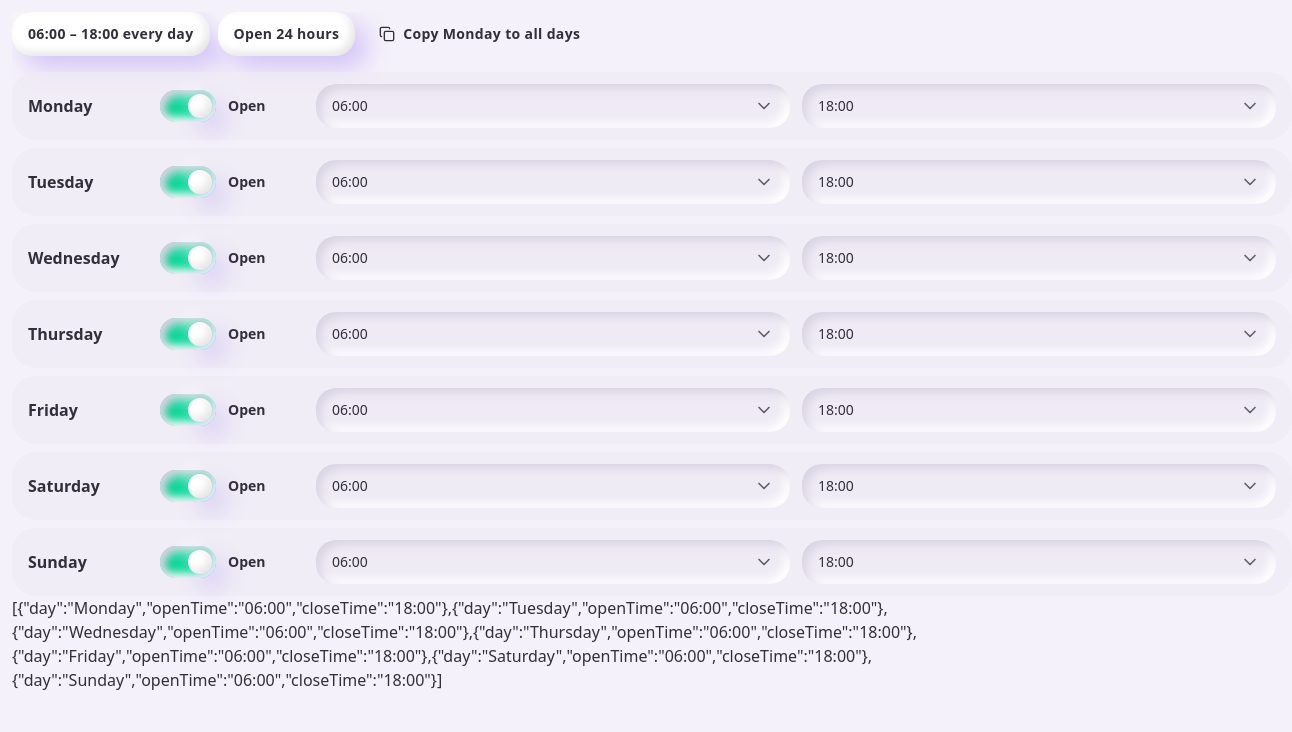
Test: ScheduleEditor › warns when a day closes before it opens
This screenshot has width=1292, height=732.
Select "05:00" in the dropdown named "Friday closing time": (1039, 410) [802, 388, 1276, 432]
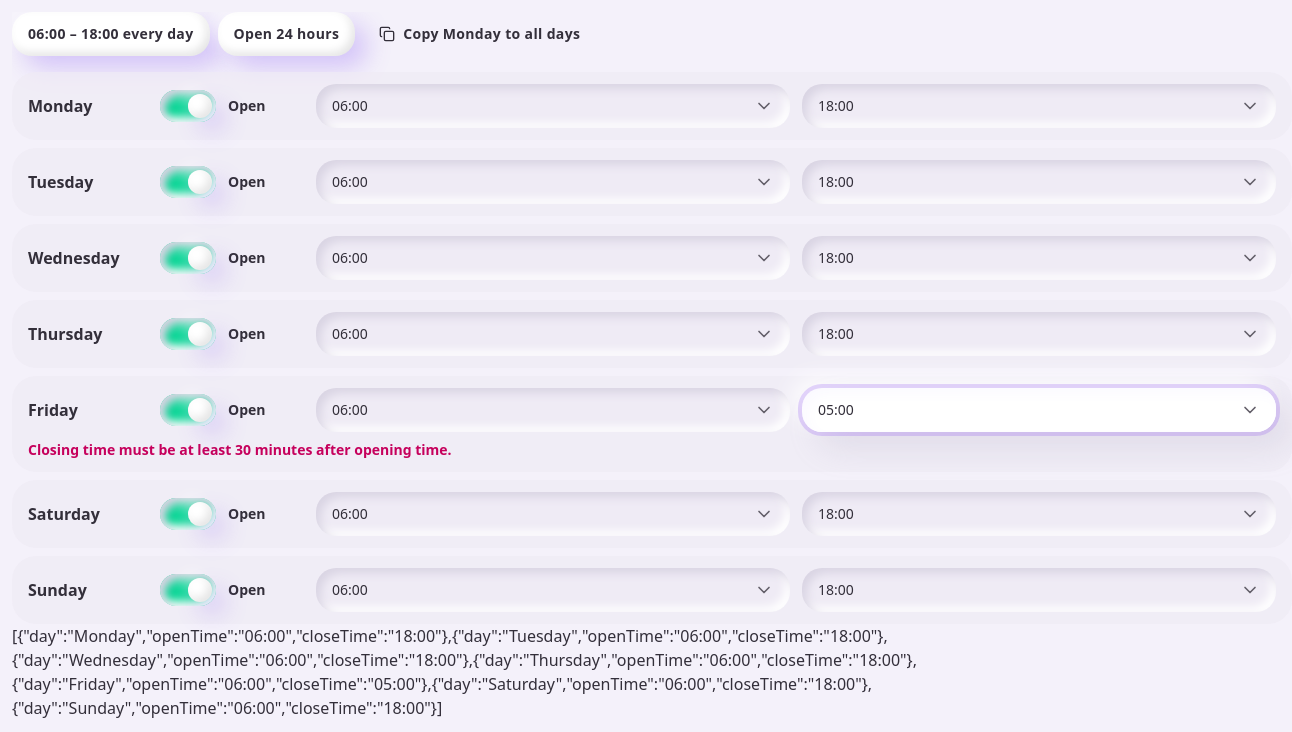
Check: the text "Closing time must be at least 30 minutes after opening time." is shown, box [28, 440, 452, 459]
